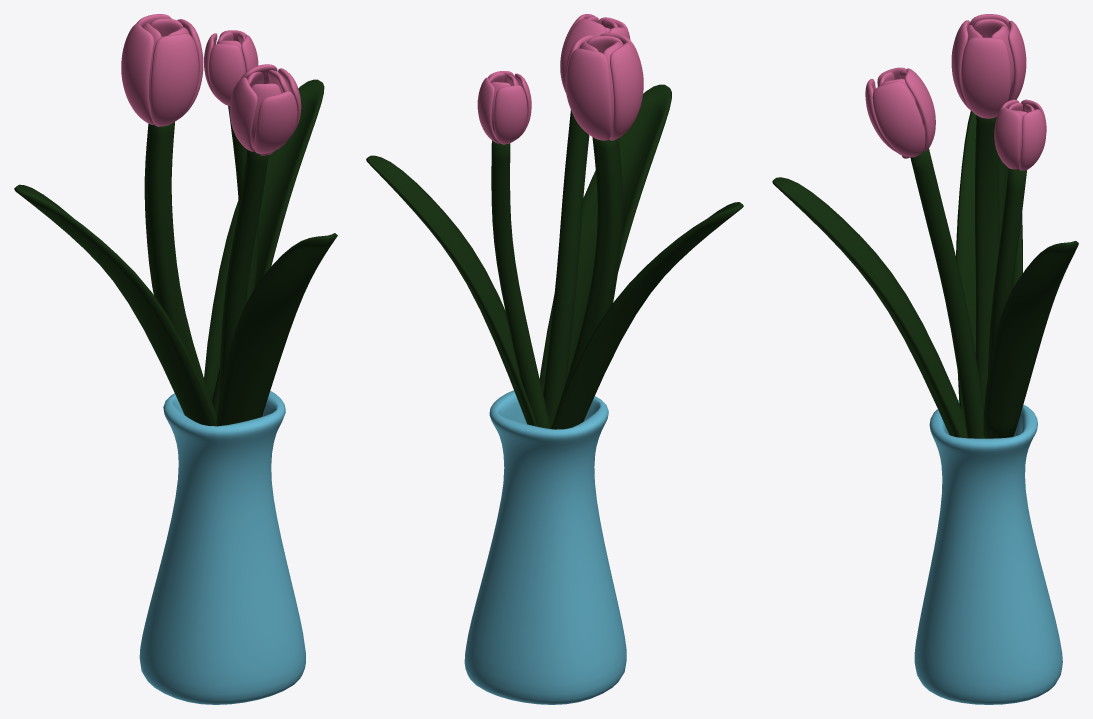
The model's file is FLORERO.obj.
3 renders of one model, left to right at view 1: azimuth 30°, elevation 25°; view 2: azimuth 150°, elevation 25°; view 3: azimuth 270°, elevation 25°, orthographic. The views are drawn at different scales.
Parts seen in each view (by area): view 1: Cube, 3.hoja, 1.hoja, 1.petalos1, 2.hoja, 1.penducle, 3.penducle, 3.petalos1, 2.petalos1, 2.penducle, 3.petalos2, 1.petalos2; view 2: Cube, 3.hoja, 1.hoja, 1.petalos1, 3.penducle, 2.hoja, 2.penducle, 1.penducle, 2.petalos1, 3.petalos1, 1.petalos2; view 3: Cube, 2.hoja, 3.hoja, 3.penducle, 1.petalos1, 1.penducle, 3.petalos1, 1.hoja, 2.penducle, 2.petalos1, 1.petalos2.
Boxes of the visible parts, x1,y1,x2,y2 form: Cube: (139,391,305,704); 3.hoja: (216,233,337,426); 1.hoja: (14,184,216,426); 1.petalos1: (121,14,203,126); 2.hoja: (204,79,324,400); 1.penducle: (144,122,216,419); 3.penducle: (219,150,268,400); 3.petalos1: (229,64,301,153); 2.petalos1: (204,30,258,105); 2.penducle: (212,106,258,415); 3.petalos2: (247,70,289,155); 1.petalos2: (142,18,188,105); Cube: (464,390,626,704); 3.hoja: (539,84,671,393); 1.hoja: (551,202,743,429); 1.petalos1: (565,32,643,140); 3.penducle: (543,110,589,427); 2.hoja: (366,155,537,426); 2.penducle: (491,140,550,428); 1.penducle: (555,137,622,415); 2.petalos1: (477,71,531,144); 3.petalos1: (560,14,630,92); 1.petalos2: (579,35,623,128); Cube: (914,400,1062,704); 2.hoja: (983,241,1078,438); 3.hoja: (772,177,967,438); 3.penducle: (910,148,984,438); 1.petalos1: (951,14,1026,118); 1.penducle: (975,115,999,409); 3.petalos1: (865,67,935,157); 1.hoja: (956,111,1022,416); 2.penducle: (988,168,1026,373); 2.petalos1: (994,99,1046,170); 1.petalos2: (967,19,1014,89).
Bounding box in the file's own units: 8.5 × 15.66 × 6.95.
